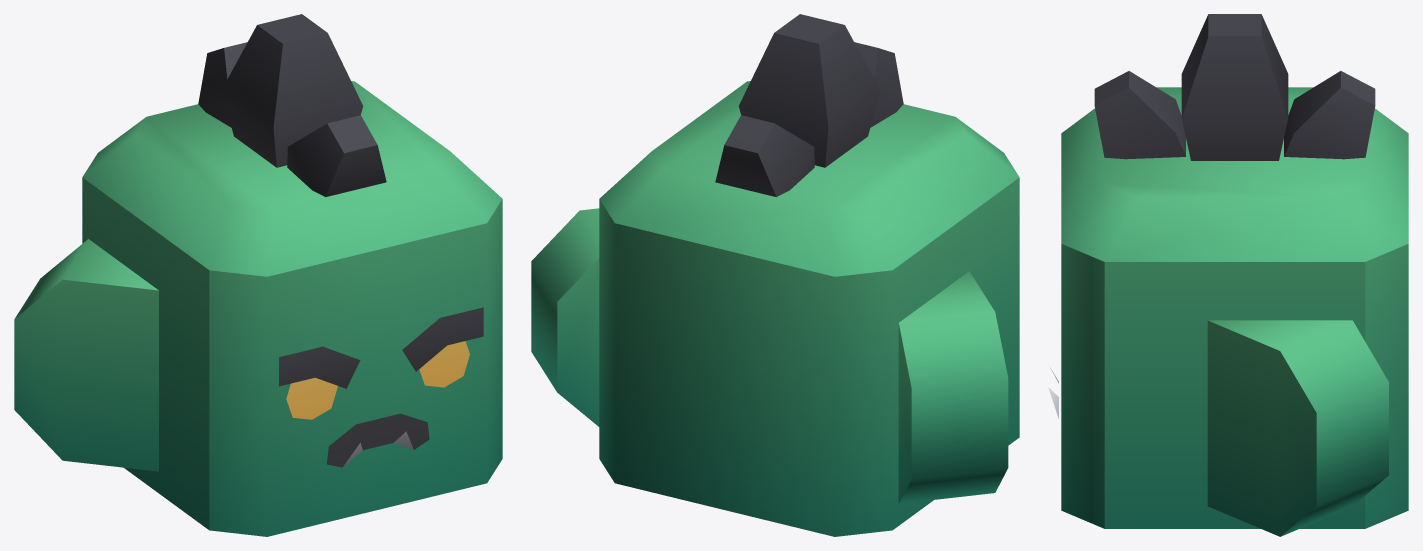
Rendered from head-mesh.003_lev5.glb.
The picture shows the model from 3 angles, left to right: view 1: azimuth 30°, elevation 25°; view 2: azimuth 150°, elevation 25°; view 3: azimuth 270°, elevation 25°; orthographic projection. The views are drawn at different scales.
Parts seen in each view (by area): view 1: head-mesh.003_lev5; view 2: head-mesh.003_lev5; view 3: head-mesh.003_lev5.
Boxes of the visible parts, x1=… form: head-mesh.003_lev5: x1=14, y1=14, x2=502, y2=536; head-mesh.003_lev5: x1=531, y1=14, x2=1019, y2=536; head-mesh.003_lev5: x1=1048, y1=14, x2=1408, y2=536.
Size of the model in its own units: 2.08 by 1.75 by 1.33.
Materials: 1 (1 with a texture image).
